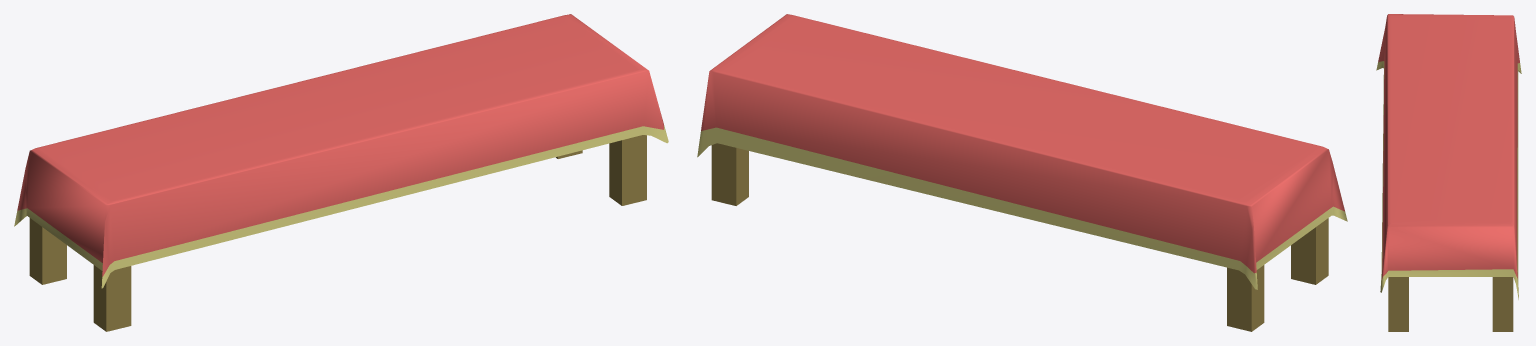
The model's file is masa (1).fbx.
3 renders of one model, left to right at view 1: azimuth 30°, elevation 25°; view 2: azimuth 150°, elevation 25°; view 3: azimuth 270°, elevation 25°, orthographic. The views are drawn at different scales.
Visible parts, largest first — view 1: Örtü, Masa; view 2: Örtü, Masa; view 3: Örtü, Masa.
Part boxes in pixels (x1,y1,x2,y2): Örtü: [14, 14, 668, 288]; Masa: [29, 135, 646, 331]; Örtü: [697, 14, 1347, 289]; Masa: [711, 143, 1328, 331]; Örtü: [1376, 14, 1521, 299]; Masa: [1388, 277, 1513, 331].
Bounding box in the file's own units: 1758 × 385 × 476.
